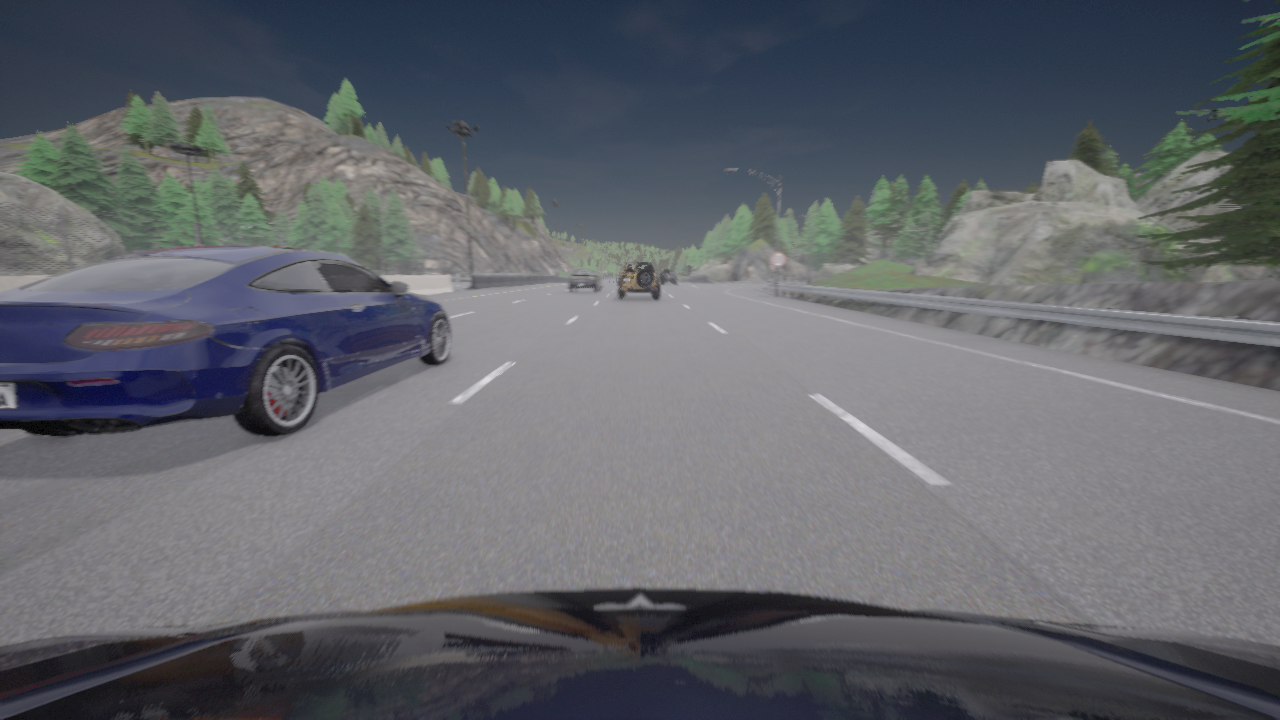cyclist: (0, 588, 1279, 719), (0, 244, 451, 436), (618, 259, 659, 298), (568, 269, 602, 292), (660, 269, 677, 283)
